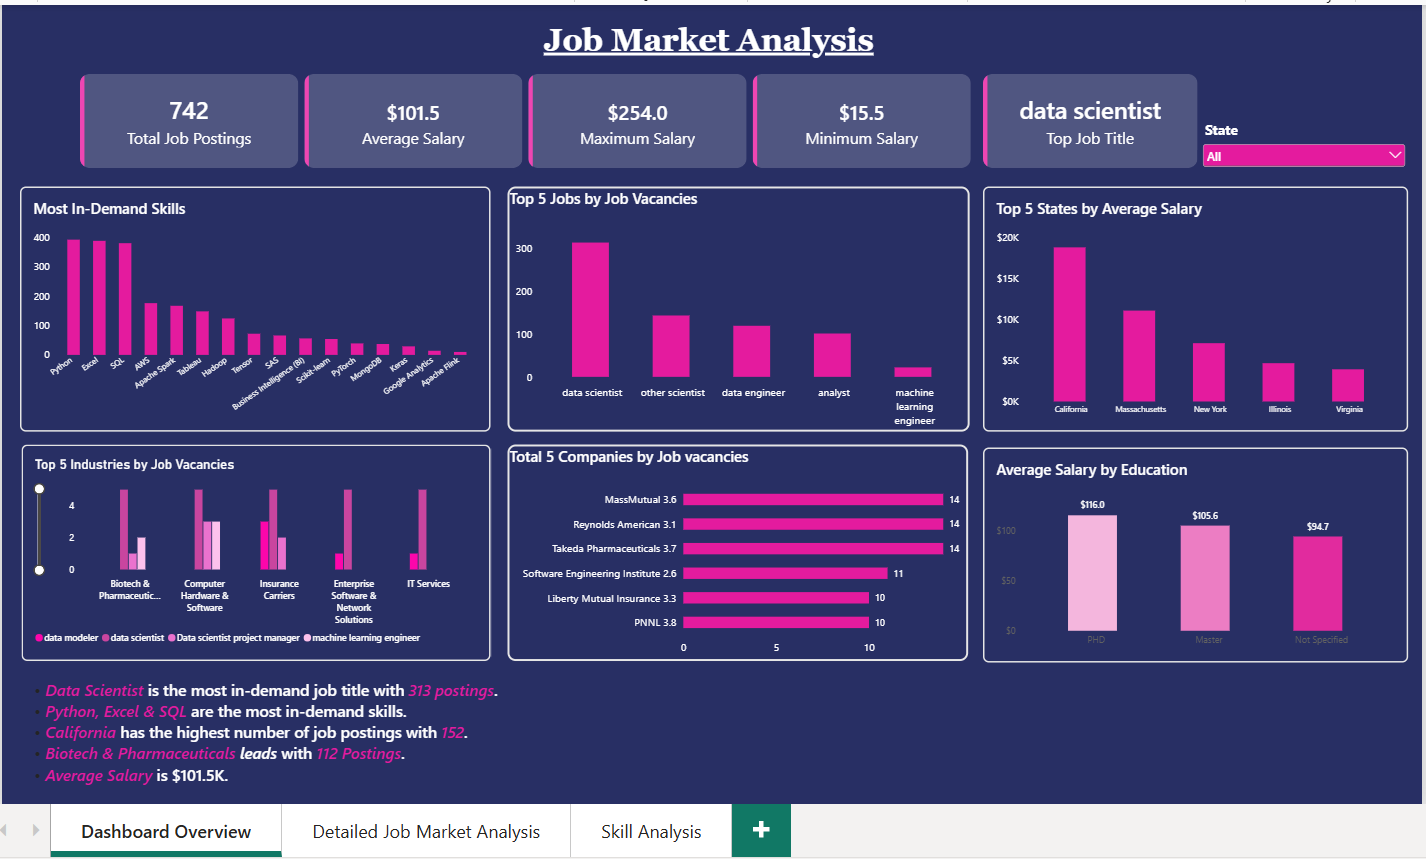

The page's visual inventory and layout, read from the dashboard file:
{"tool":"powerbi","page":{"name":"Dashboard Overview","canvas":[1920,1080],"ordinal":0},"visuals":[{"type":"slicer","fields":{"Values":["project_job_market_analysis Market.State"]},"box":[1617.2,156.7,283.9,115.8],"z":0},{"type":"cardVisual","fields":{"Data":["CountNonNull(project_job_market_analysis Market.ID)","Avg(project_job_market_analysis Market.Avg_SalaryK)","Max(project_job_market_analysis Market.Avg_SalaryK)","Min(project_job_market_analysis Market.Avg_SalaryK)"]},"box":[104.5,93.1,1206.1,127.2],"z":1000},{"type":"clusteredColumnChart","title":"Top 5 States by Average Salary","fields":{"Category":["project_job_market_analysis Market.State"],"Y":["Sum(project_job_market_analysis Market.Avg_SalaryK)"]},"box":[1326.4,245.3,574.6,331.6],"z":2000},{"type":"clusteredColumnChart","title":"Top 5 Industries by Job Vacancies","fields":{"Category":["project_job_market_analysis Market.Industry"],"Series":["project_job_market_analysis Market.Simplified Job Title"],"Y":["CountNonNull(project_job_market_analysis Market.Job_Title)"]},"box":[27.3,595.1,633.7,293],"z":3000},{"type":"clusteredBarChart","title":"Total 5 Companies by Job vacancies","fields":{"Category":["project_job_market_analysis Market.Company_Name"],"Y":["CountNonNull(project_job_market_analysis Market.ID)"]},"box":[683.7,595.1,622.3,293],"z":4000},{"type":"clusteredColumnChart","title":"Top 5 Jobs by Job Vacancies","fields":{"Category":["project_job_market_analysis Market.Simplified Job Title"],"Y":["CountNonNull(project_job_market_analysis Market.ID)"]},"box":[683.7,245.3,624.6,331.6],"z":5000},{"type":"clusteredColumnChart","title":"Average Salary by Education","fields":{"Category":["project_job_market_analysis Market.Qualification"],"Y":["Avg(project_job_market_analysis Market.Avg_SalaryK)"]},"box":[1326.4,597.4,574.6,290.7],"z":6000},{"type":"clusteredColumnChart","title":"Most In-Demand Skills","fields":{"Category":["Skill Analysis.Skill"],"Y":["CountNonNull(Skill Analysis.ID)"]},"box":[25,245.3,636,331.6],"z":7000},{"type":"cardVisual","fields":{"Data":["Min(project_job_market_analysis Market.Simplified Job Title)"]},"box":[1326.4,93.1,290.7,127.2],"z":8000},{"type":"textbox","box":[567.8,22.7,785.9,54.5],"z":9000},{"type":"textbox","box":[27.3,910.8,1480.9,168.1],"z":10000}]}

Visuals, with their boxes on the page's 1920x1080 design canvas (x1, y1, x2, y2). These are canvas units, not pixel positions in the 1426x859 screenshot, which may show the page scaled, cropped or inside an application window:
slicer - project_job_market_analysis Market.State: <region>1617, 157, 1901, 272</region>
cardVisual - CountNonNull(project_job_market_analysis Market.ID) x Avg(project_job_market_analysis Market.Avg_SalaryK): <region>104, 93, 1311, 220</region>
"Top 5 States by Average Salary" clusteredColumnChart: <region>1326, 245, 1901, 577</region>
"Top 5 Industries by Job Vacancies" clusteredColumnChart: <region>27, 595, 661, 888</region>
"Total 5 Companies by Job vacancies" clusteredBarChart: <region>684, 595, 1306, 888</region>
"Top 5 Jobs by Job Vacancies" clusteredColumnChart: <region>684, 245, 1308, 577</region>
"Average Salary by Education" clusteredColumnChart: <region>1326, 597, 1901, 888</region>
"Most In-Demand Skills" clusteredColumnChart: <region>25, 245, 661, 577</region>
cardVisual - Min(project_job_market_analysis Market.Simplified Job Title): <region>1326, 93, 1617, 220</region>
textbox: <region>568, 23, 1354, 77</region>
textbox: <region>27, 911, 1508, 1079</region>
